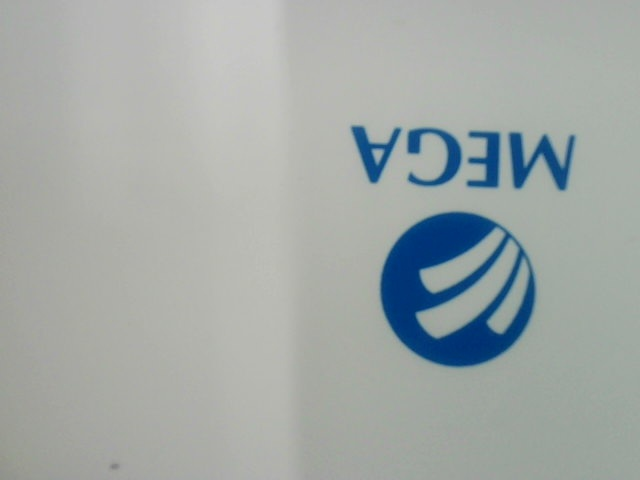AM_ZTEMEGA: (329, 108, 593, 378)
